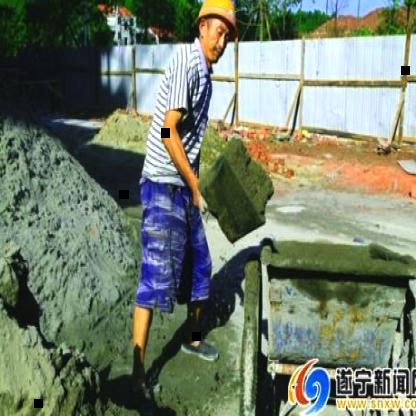helmet: (189, 0, 246, 40)
